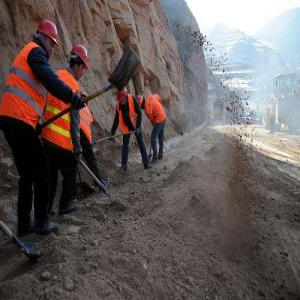red: (36, 15, 59, 57), (69, 42, 92, 80), (117, 86, 130, 109), (138, 94, 147, 111)
